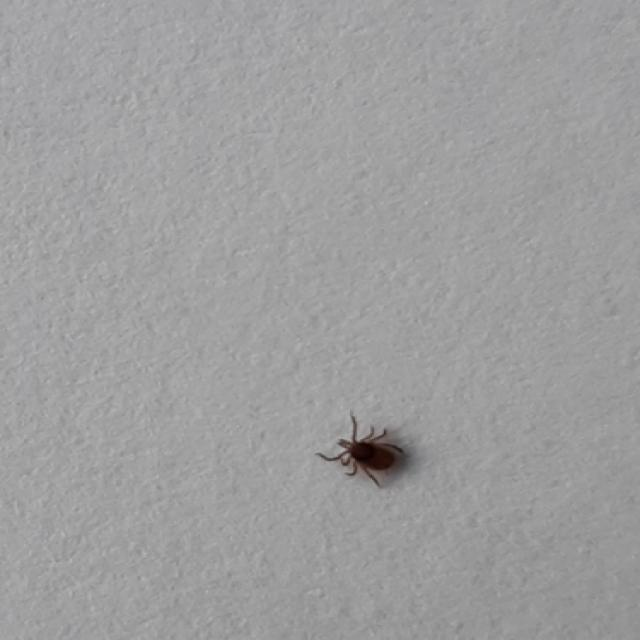Ixodes Ricinus-F: (317, 419, 408, 489)
